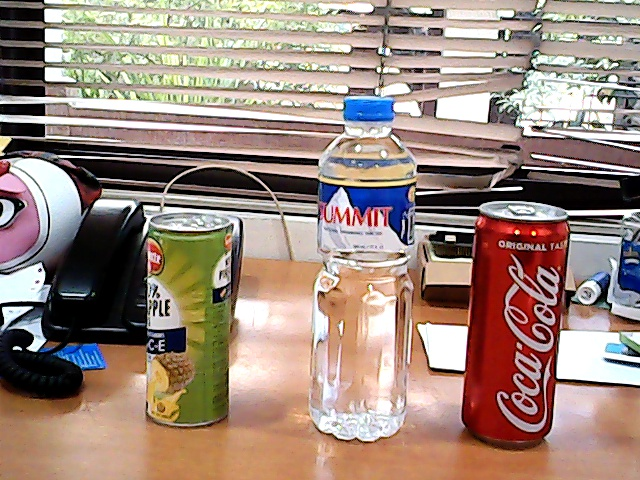Cola: (447, 192, 588, 459)
Pine Juice: (135, 209, 252, 434)
Summit Water: (296, 92, 437, 450)
